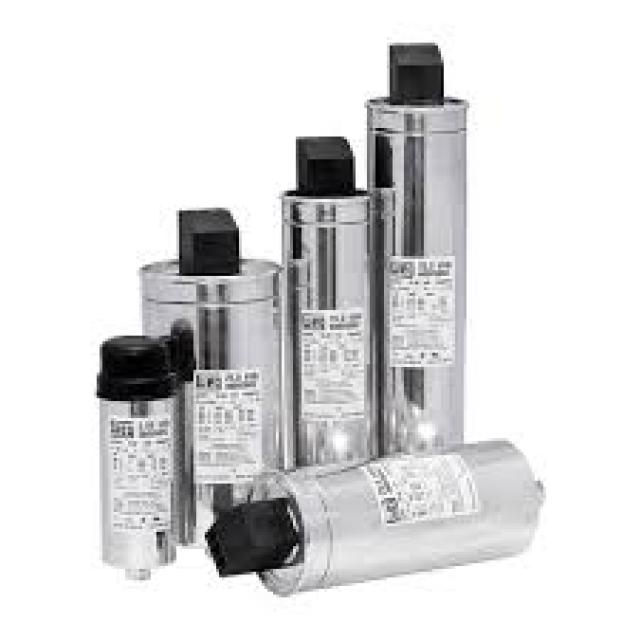Capacitor: (144, 262, 282, 522), (368, 94, 465, 448), (290, 454, 531, 576), (282, 195, 376, 464), (87, 385, 189, 582)
